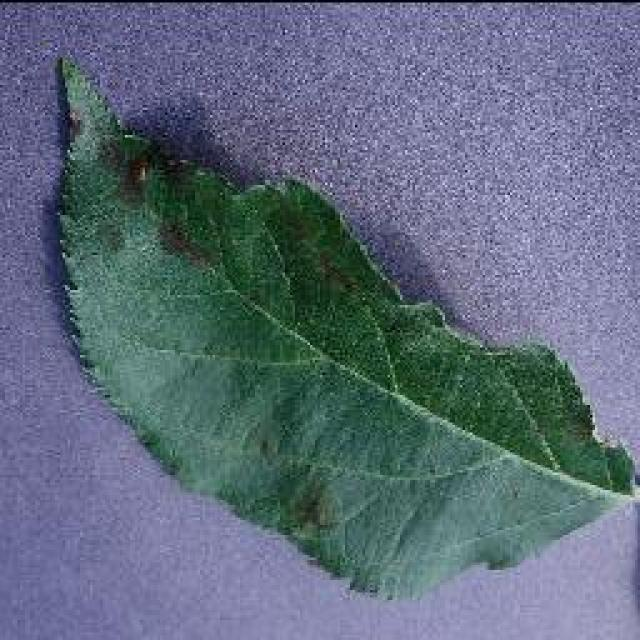apple scab disease: (48, 50, 638, 602)
